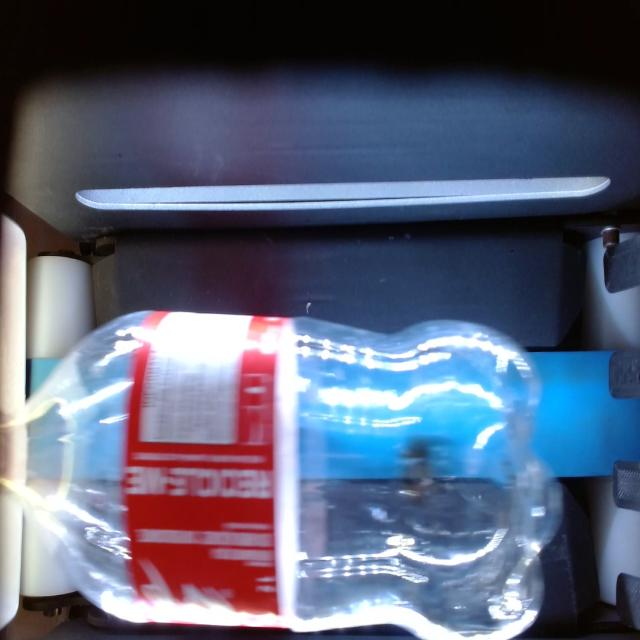bottom: (292, 320, 562, 638)
label: (124, 313, 299, 618)
neck: (0, 310, 151, 622)
